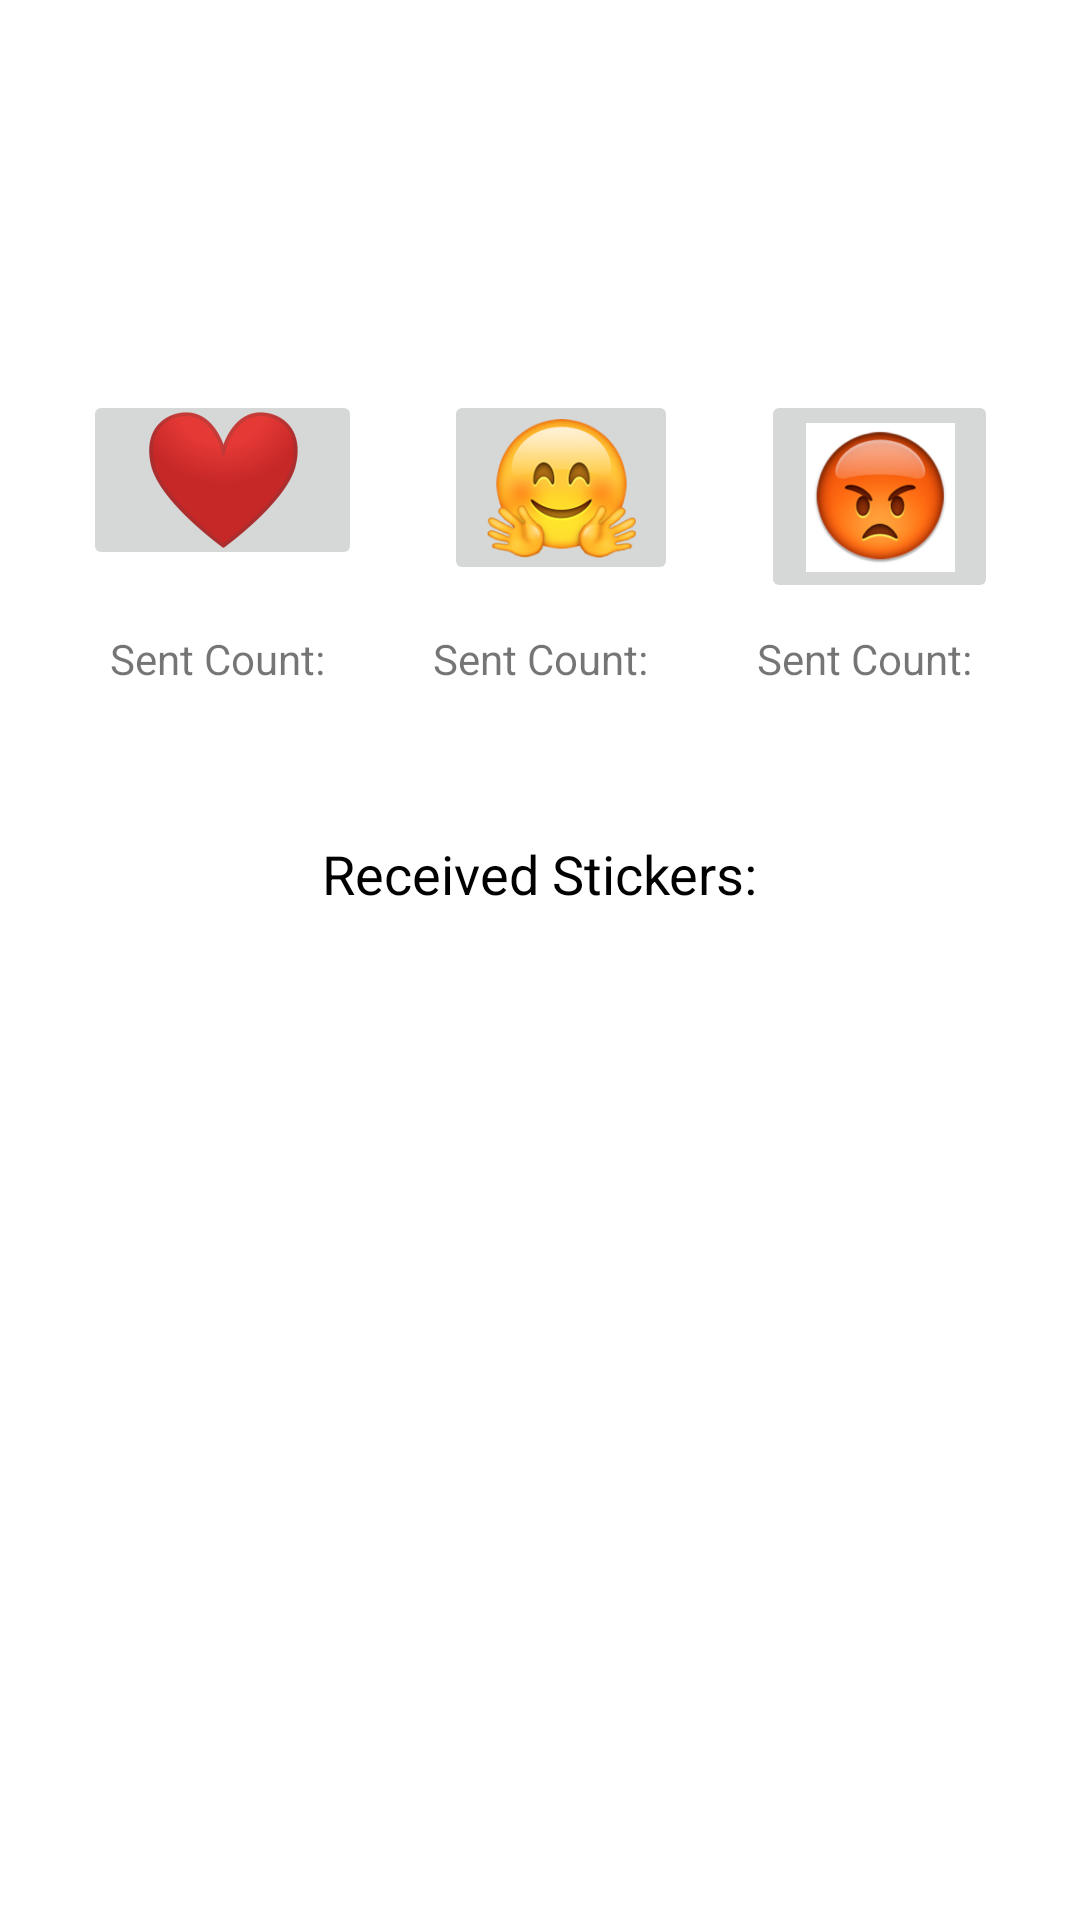

Screen size 1080×1920. Icon name, then its box in pixels as (x1, y1, x2, y2):
angry: (773, 408, 986, 585)
heart: (95, 408, 350, 552)
hugs: (456, 408, 666, 567)
